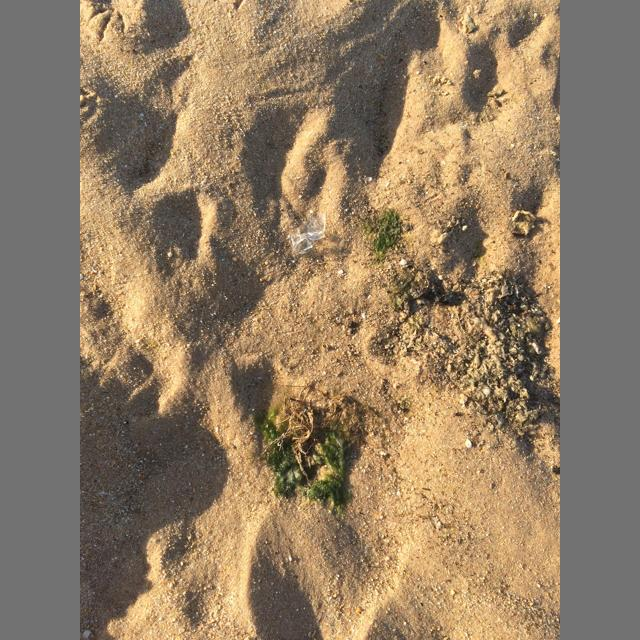litter: (264, 391, 315, 478), (287, 213, 326, 256)
